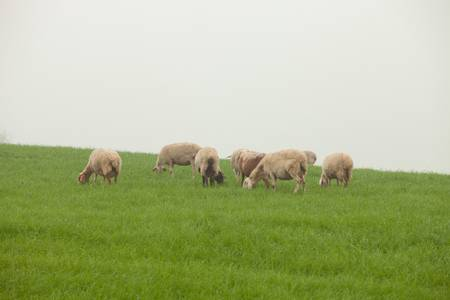sheep: (240, 148, 309, 195), (151, 140, 197, 182), (77, 145, 123, 185), (316, 151, 356, 190), (195, 147, 226, 187), (226, 146, 264, 168)
